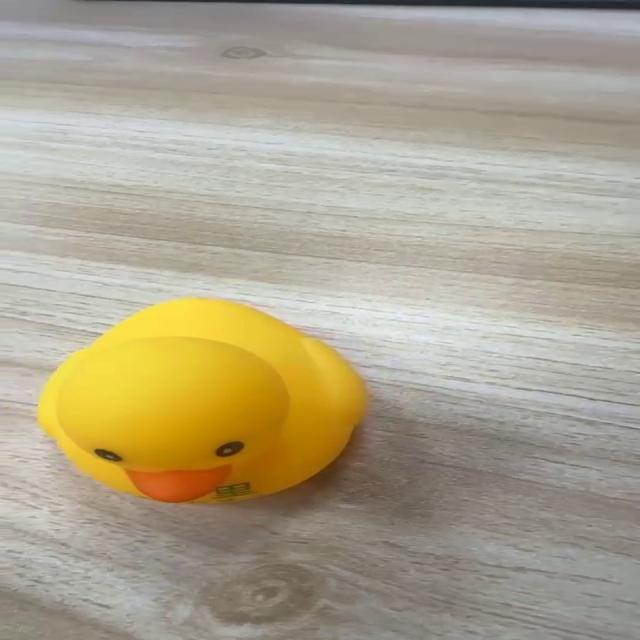yellow_duck: (34, 295, 368, 505)
